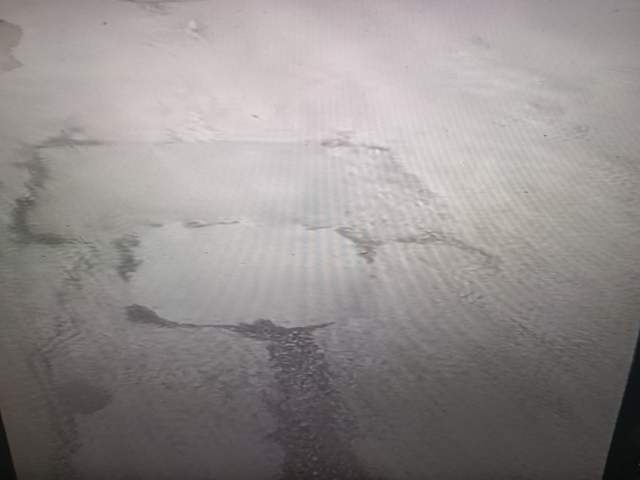pothole: (114, 403, 338, 480)
